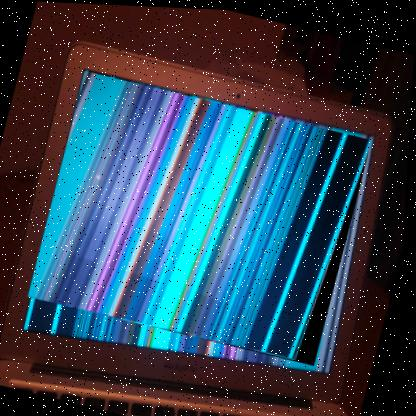lines: (28, 69, 376, 365)
